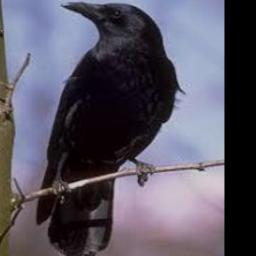Crow: (36, 1, 185, 256)
